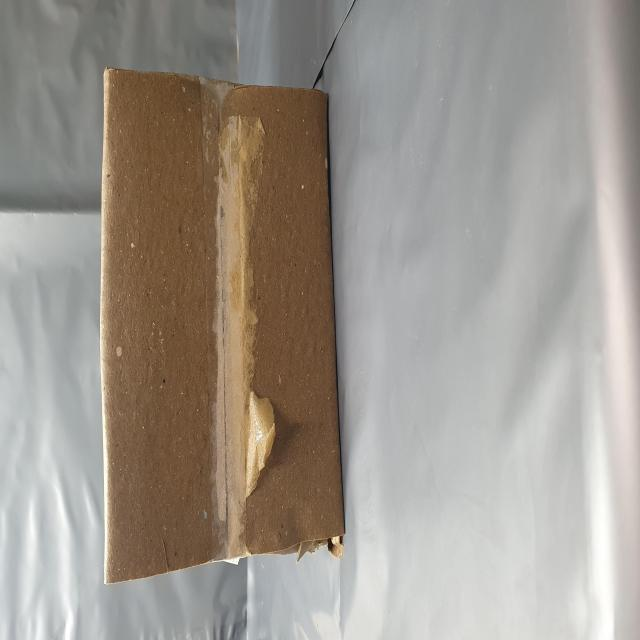wet: (31, 178, 318, 614)
